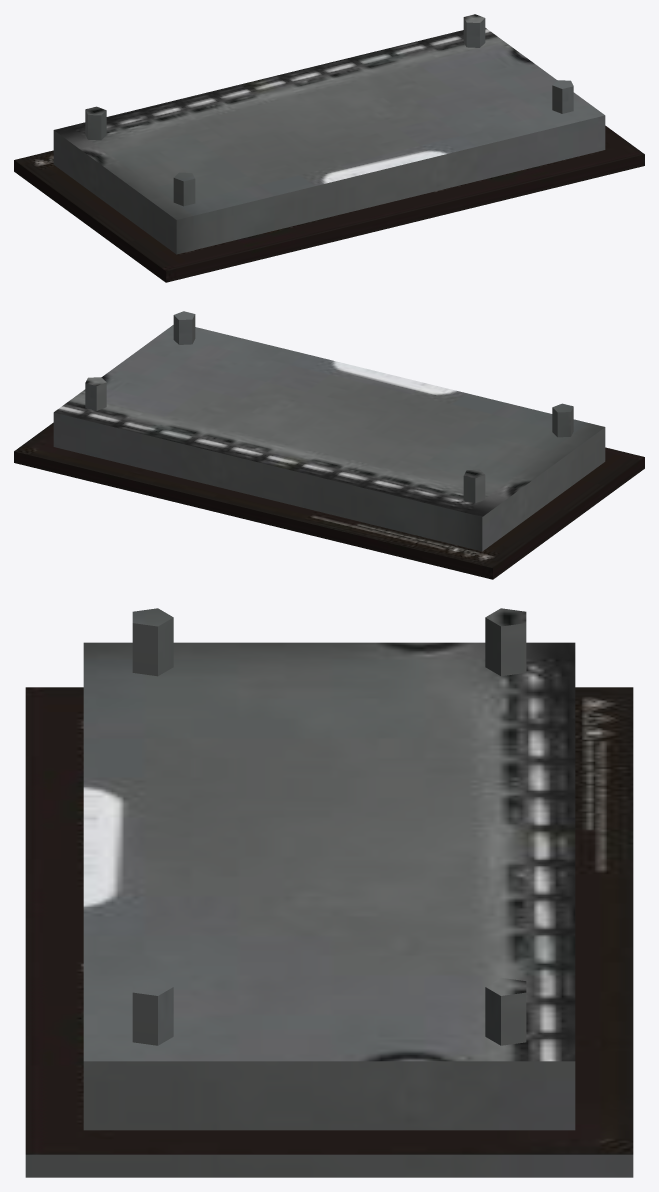
File: Stove_07.glb
3 views of the same model, one above another, from view 1: azimuth 30°, elevation 25°; view 2: azimuth 150°, elevation 25°; view 3: azimuth 270°, elevation 25° (orthographic). The views are drawn at different scales.
Parts seen in each view (by area): view 1: Stove_07; view 2: Stove_07; view 3: Stove_07.
Part boxes in pixels (x1,y1,x2,y2): Stove_07: (14,14,644,282); Stove_07: (14,311,644,579); Stove_07: (25,608,633,1177).
Bounding box in the file's own units: 0.6571 × 0.0929 × 0.3611.
Materials: 1 (1 with a texture image).
